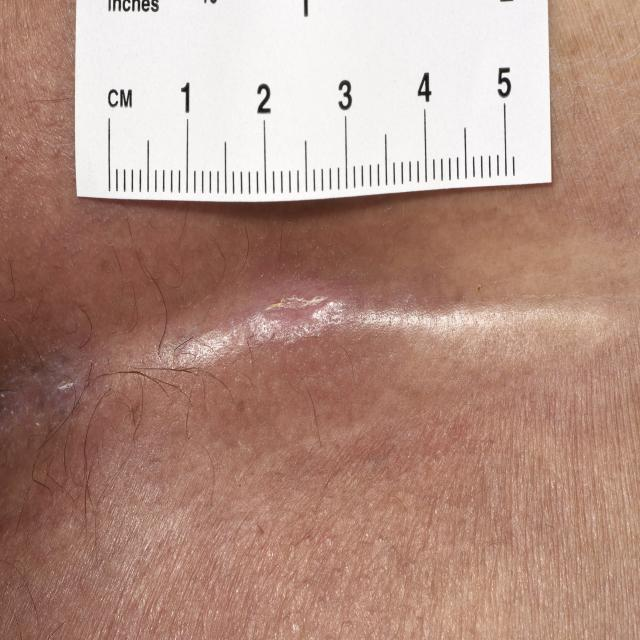wound: (1, 260, 632, 468)
